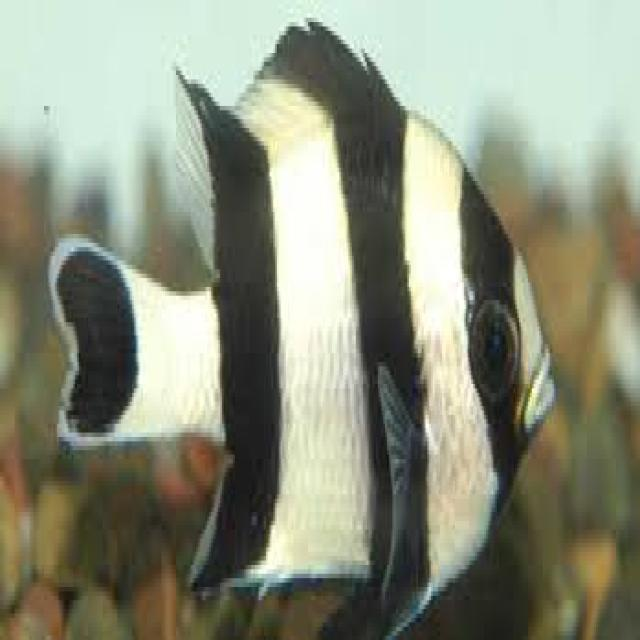ThreeStripedDamselfish: (48, 17, 559, 640)
